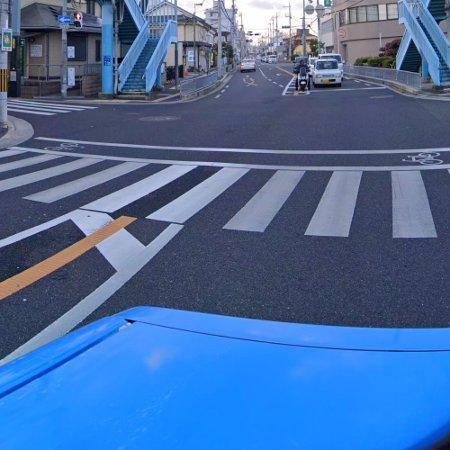crosswalks: (0, 148, 438, 241)
